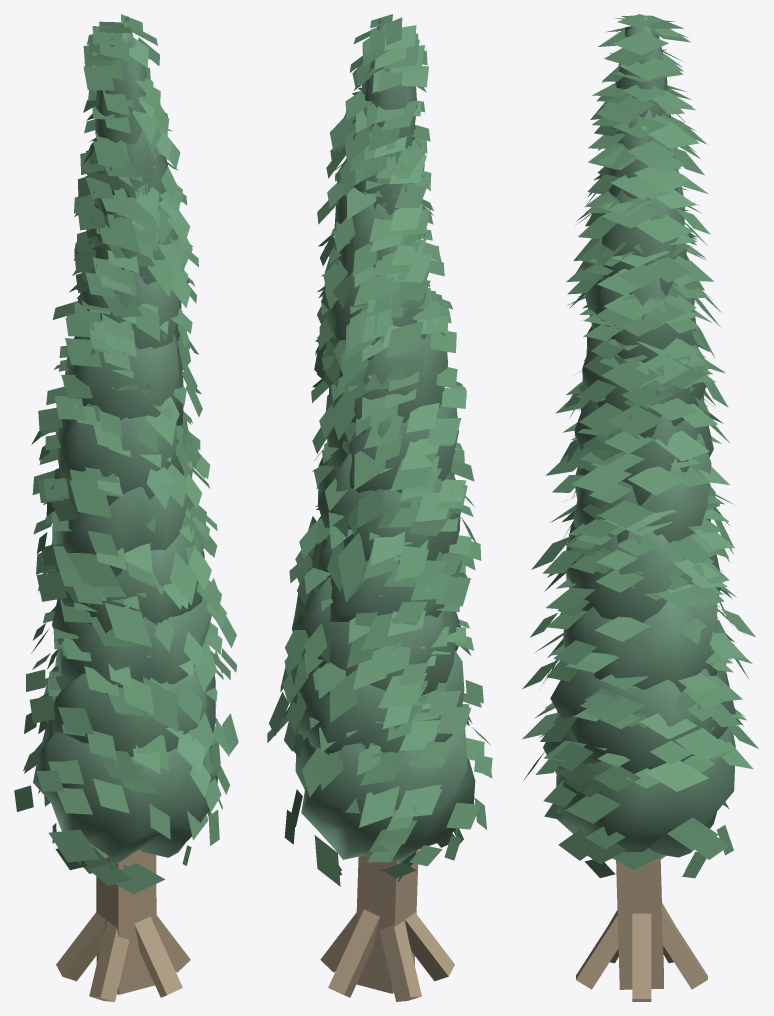
File: cypress.glb
3 views of the same model, side by side, from view 1: azimuth 30°, elevation 25°; view 2: azimuth 150°, elevation 25°; view 3: azimuth 270°, elevation 25° (orthographic).
Parts seen in each view (by area): view 1: SourceMesh_00017, SourceMesh_00006, SourceMesh_00008, SourceMesh_00012, SourceMesh_00010, SourceMesh_00007, SourceMesh_00011, SourceMesh_00000, SourceMesh_00009, SourceMesh_00013, SourceMesh_00016, SourceMesh_00003 (+5 smaller); view 2: SourceMesh_00017, SourceMesh_00006, SourceMesh_00007, SourceMesh_00008, SourceMesh_00000, SourceMesh_00010, SourceMesh_00012, SourceMesh_00011, SourceMesh_00009, SourceMesh_00004, SourceMesh_00005, SourceMesh_00014 (+5 smaller); view 3: SourceMesh_00017, SourceMesh_00006, SourceMesh_00008, SourceMesh_00007, SourceMesh_00009, SourceMesh_00010, SourceMesh_00000, SourceMesh_00013, SourceMesh_00011, SourceMesh_00014, SourceMesh_00012, SourceMesh_00001 (+4 smaller).
Boxes of the visible parts, box(x1,y1,x2,y2) form: SourceMesh_00017: box(14, 14, 238, 894); SourceMesh_00006: box(33, 720, 217, 865); SourceMesh_00008: box(52, 597, 211, 706); SourceMesh_00012: box(63, 334, 183, 425); SourceMesh_00010: box(52, 466, 193, 576); SourceMesh_00007: box(44, 666, 215, 756); SourceMesh_00011: box(54, 403, 183, 505); SourceMesh_00000: box(96, 850, 156, 994); SourceMesh_00009: box(51, 512, 204, 633); SourceMesh_00013: box(78, 259, 181, 354); SourceMesh_00016: box(95, 16, 146, 144); SourceMesh_00003: box(89, 920, 129, 1001); SourceMesh_00017: box(267, 14, 492, 886); SourceMesh_00006: box(295, 729, 475, 862); SourceMesh_00007: box(287, 650, 464, 754); SourceMesh_00008: box(292, 577, 460, 697); SourceMesh_00000: box(356, 850, 418, 993); SourceMesh_00010: box(318, 453, 460, 564); SourceMesh_00012: box(329, 317, 447, 434); SourceMesh_00011: box(325, 394, 458, 493); SourceMesh_00009: box(311, 516, 461, 621); SourceMesh_00004: box(379, 920, 421, 1001); SourceMesh_00005: box(328, 909, 379, 997); SourceMesh_00014: box(334, 182, 419, 277); SourceMesh_00017: box(522, 14, 758, 878); SourceMesh_00006: box(543, 728, 735, 860); SourceMesh_00008: box(563, 587, 717, 692); SourceMesh_00007: box(550, 663, 735, 773); SourceMesh_00009: box(566, 521, 722, 622); SourceMesh_00010: box(573, 433, 711, 542); SourceMesh_00000: box(616, 857, 663, 989); SourceMesh_00013: box(585, 255, 694, 362); SourceMesh_00011: box(574, 394, 713, 505); SourceMesh_00014: box(599, 186, 687, 296); SourceMesh_00012: box(582, 317, 706, 446); SourceMesh_00001: box(632, 913, 651, 1001).
Bounding box in the file's own units: 1.09 × 5.08 × 1.13.
